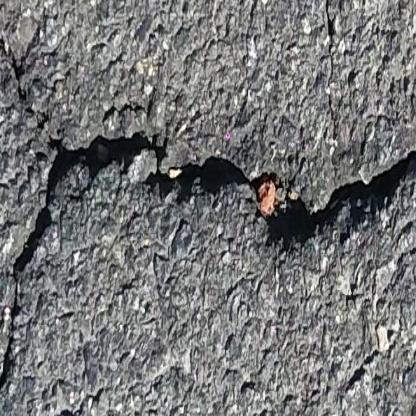Cracks: (0, 132, 253, 416), (263, 145, 416, 252), (0, 18, 38, 121)
